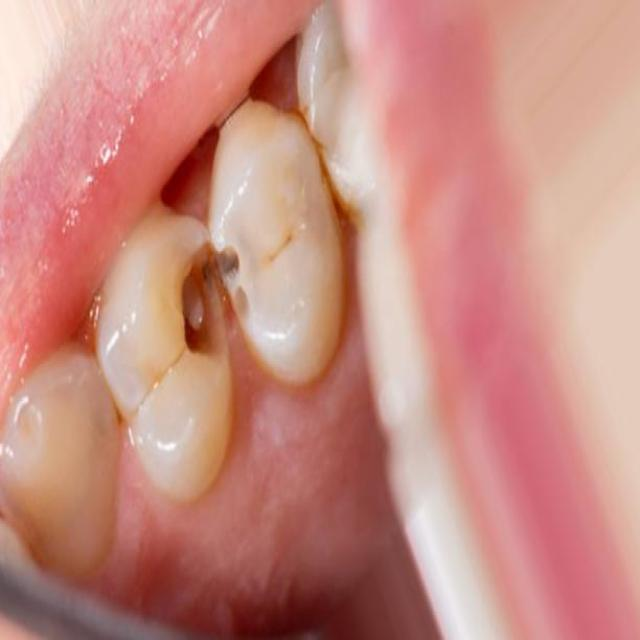caries: (158, 211, 277, 392)
